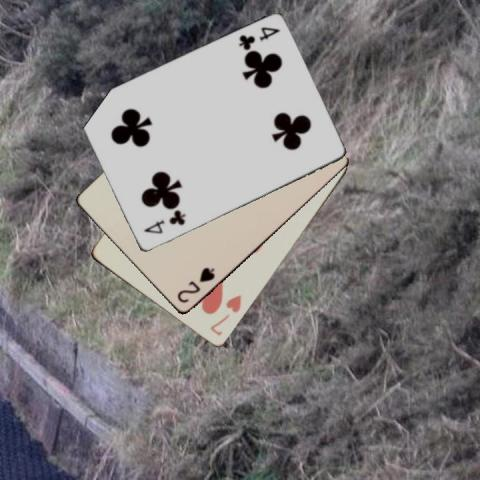2s: (174, 264, 217, 305)
4c: (235, 24, 281, 53), (141, 208, 187, 236)
7h: (208, 292, 244, 338)
